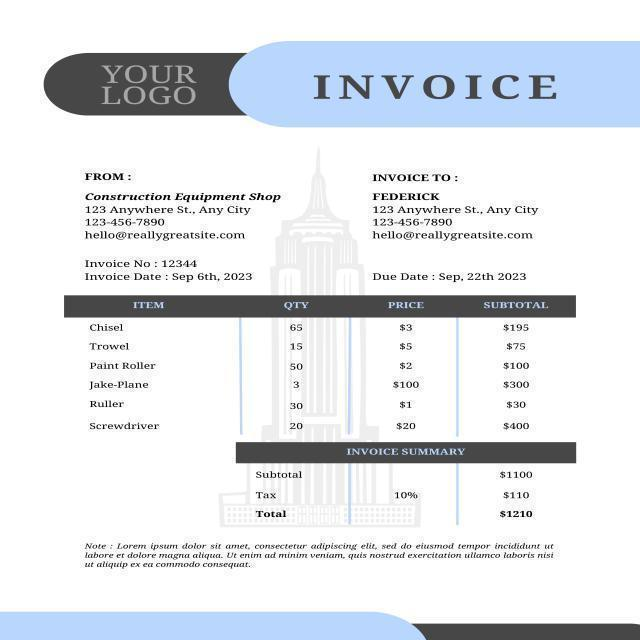paragraph: (66, 158, 296, 290), (255, 443, 545, 528), (358, 169, 559, 287), (78, 538, 567, 580), (296, 71, 569, 109), (93, 58, 209, 108)
table: (61, 293, 573, 433)
